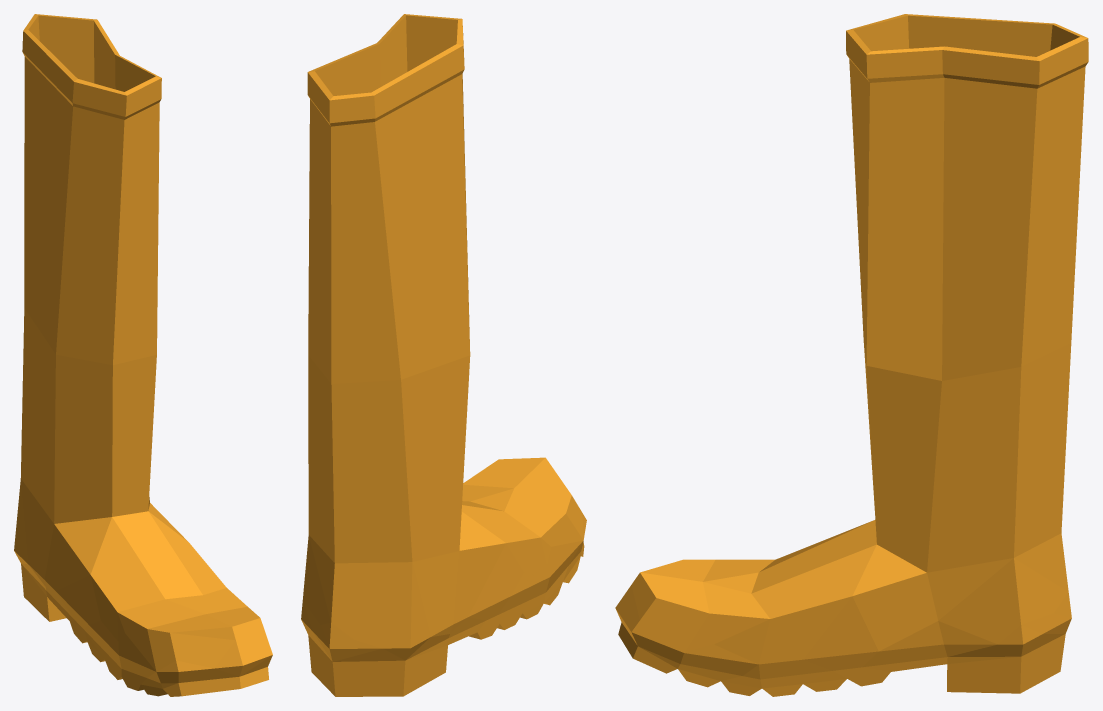
File: SM_Boot_Rain_Dirty_A.fbx
3 renders of one model, left to right at view 1: azimuth 30°, elevation 25°; view 2: azimuth 150°, elevation 25°; view 3: azimuth 270°, elevation 25°, orthographic. The views are drawn at different scales.
Visible parts, largest first — view 1: boot-rain-dirty-a; view 2: boot-rain-dirty-a; view 3: boot-rain-dirty-a.
Boxes of the visible parts, x1,y1,x2,y2 form: boot-rain-dirty-a: (14, 14, 272, 696); boot-rain-dirty-a: (301, 14, 586, 696); boot-rain-dirty-a: (615, 14, 1088, 696).
Size of the model in its own units: 0.0944 by 0.4455 by 0.302.
